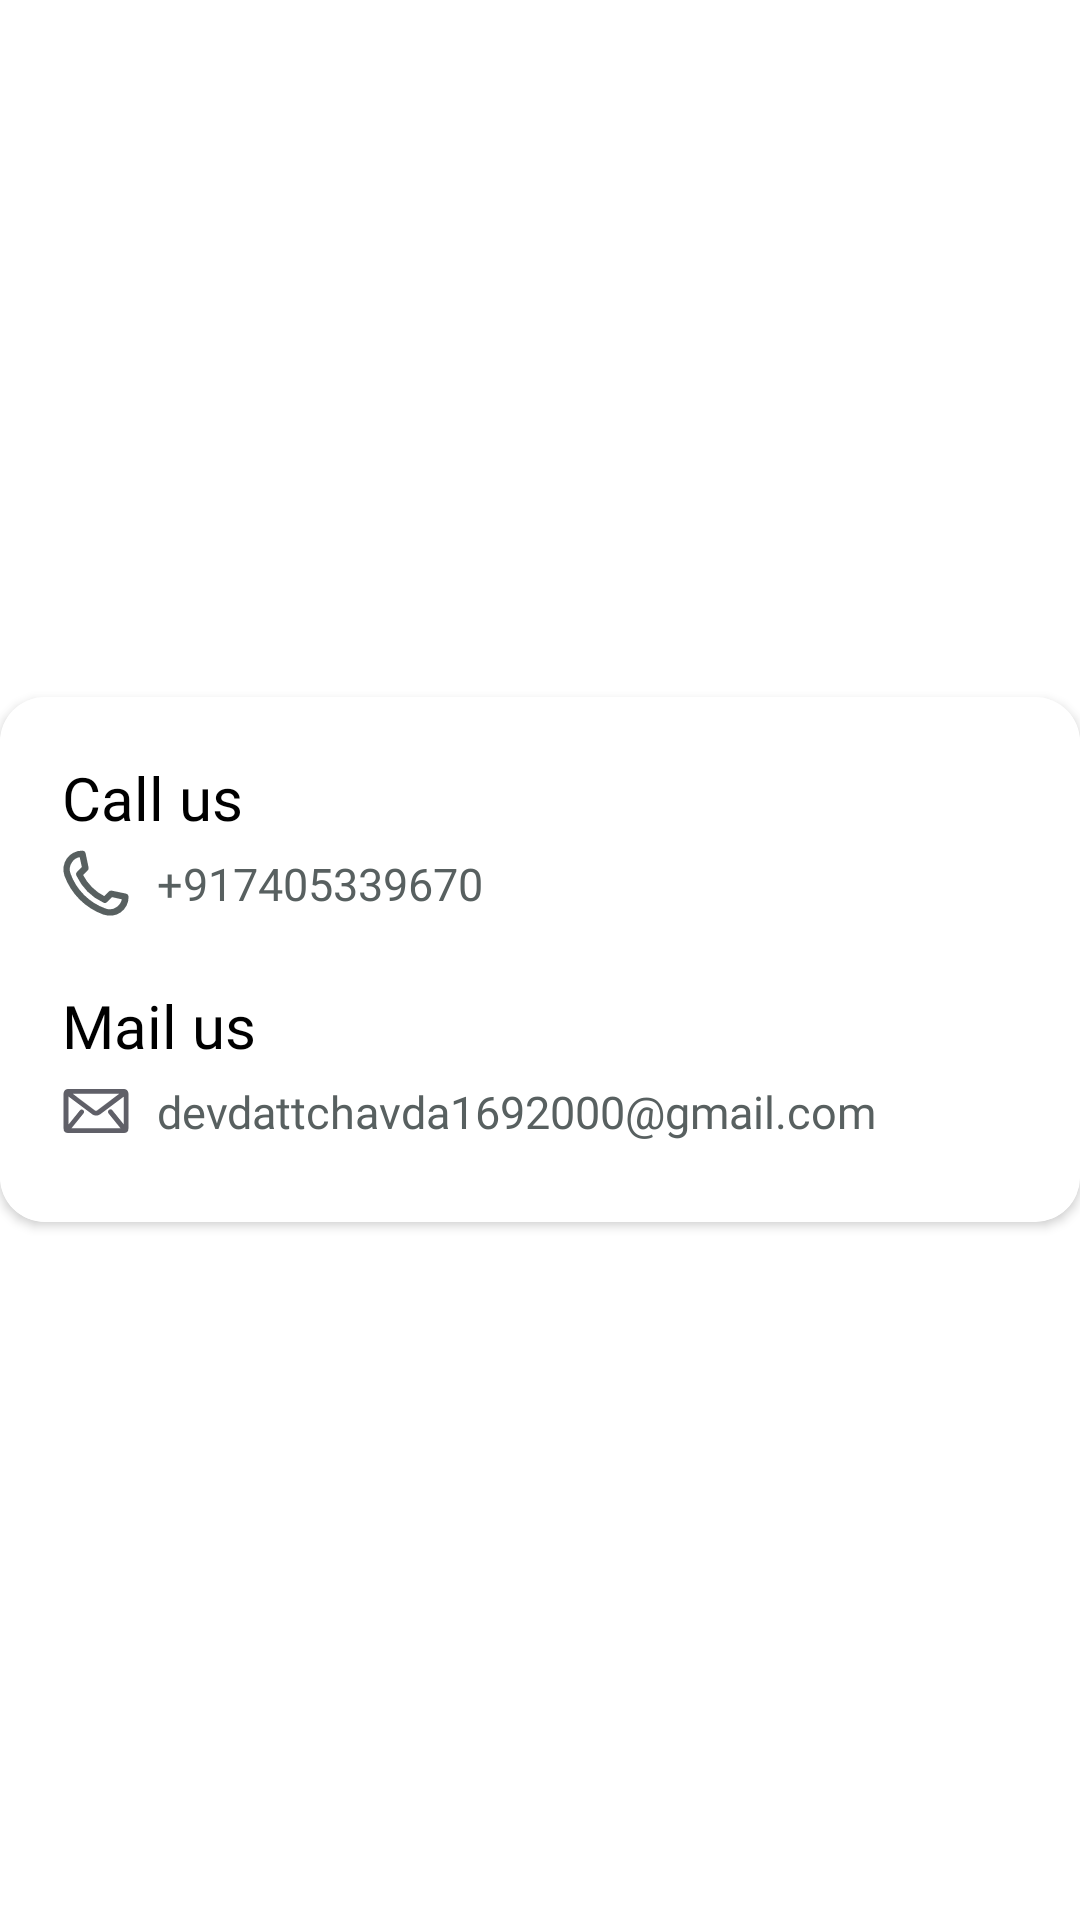

Point at icon controls on the screen. Image size 1080px x 1920px, points as (x,y).
email: (96,1111)
phone: (96,883)
